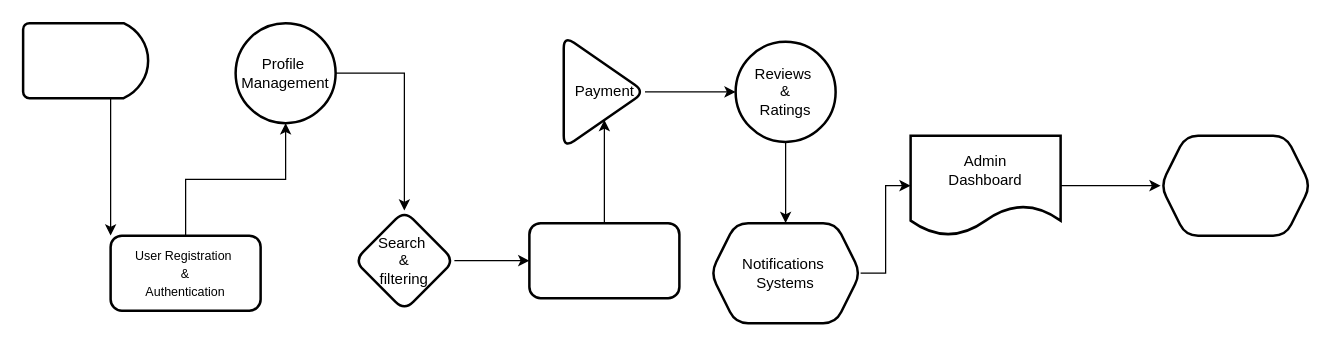
This 1333x345 diagram has some shape labels left out. The box of each missing label's shape, as (x1, y1, x2, y2) in pixels:
Booking Management: (528, 221, 680, 299)
End: (1159, 134, 1311, 236)
START: (21, 21, 149, 99)
